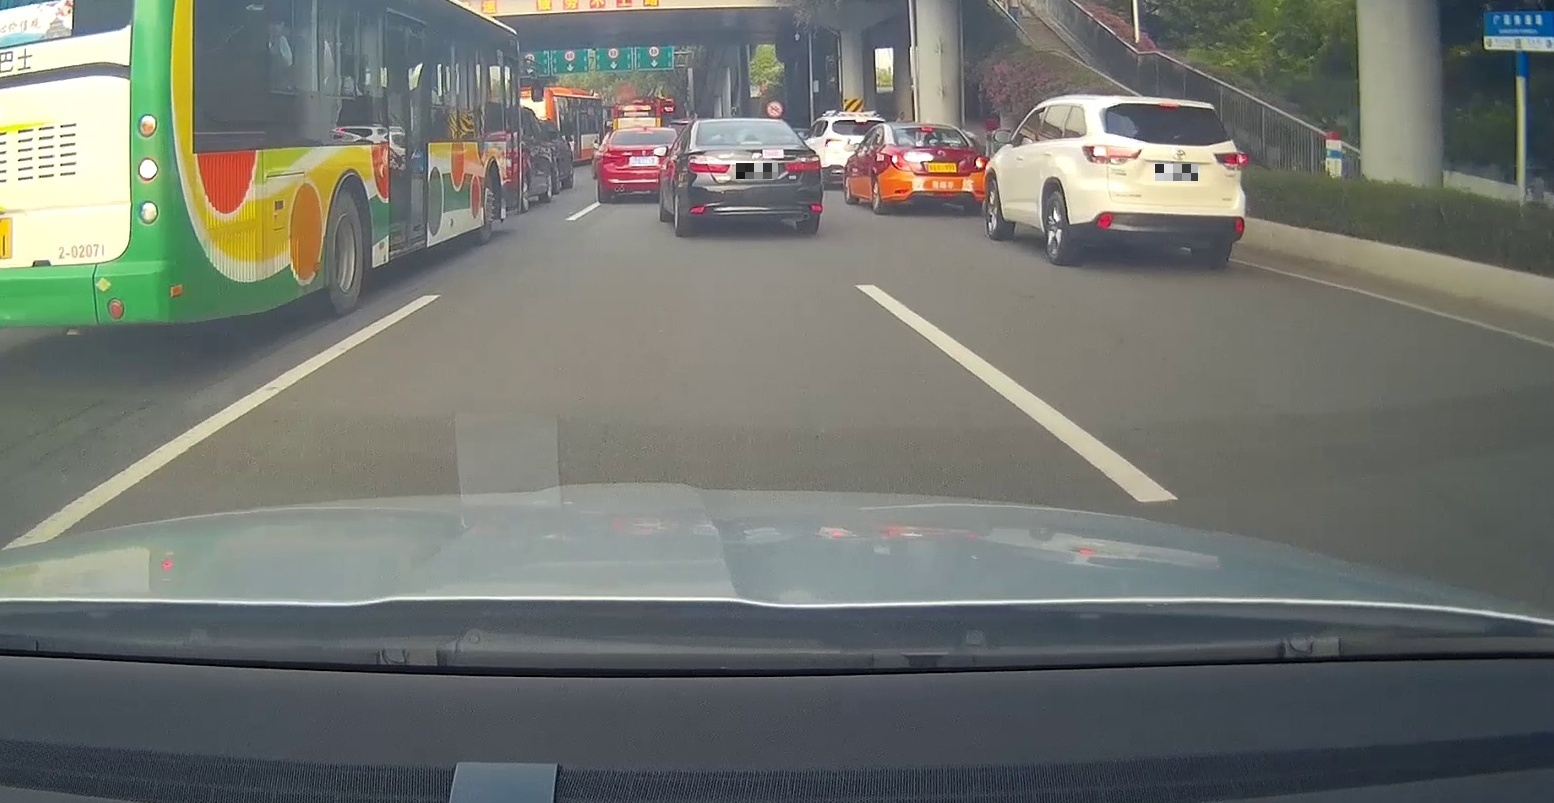L_light: (1081, 144, 1143, 166), (688, 155, 730, 174), (891, 154, 929, 174)
R_light: (1212, 149, 1245, 171), (958, 155, 990, 175), (786, 155, 821, 172)
T_light: (1160, 101, 1179, 108), (740, 140, 762, 145), (921, 126, 933, 131)
day-brake: (1074, 96, 1246, 269), (887, 122, 990, 215)
day-no: (685, 118, 824, 237)
plate_1: (736, 163, 778, 179)
plate_2: (1155, 164, 1198, 181)
